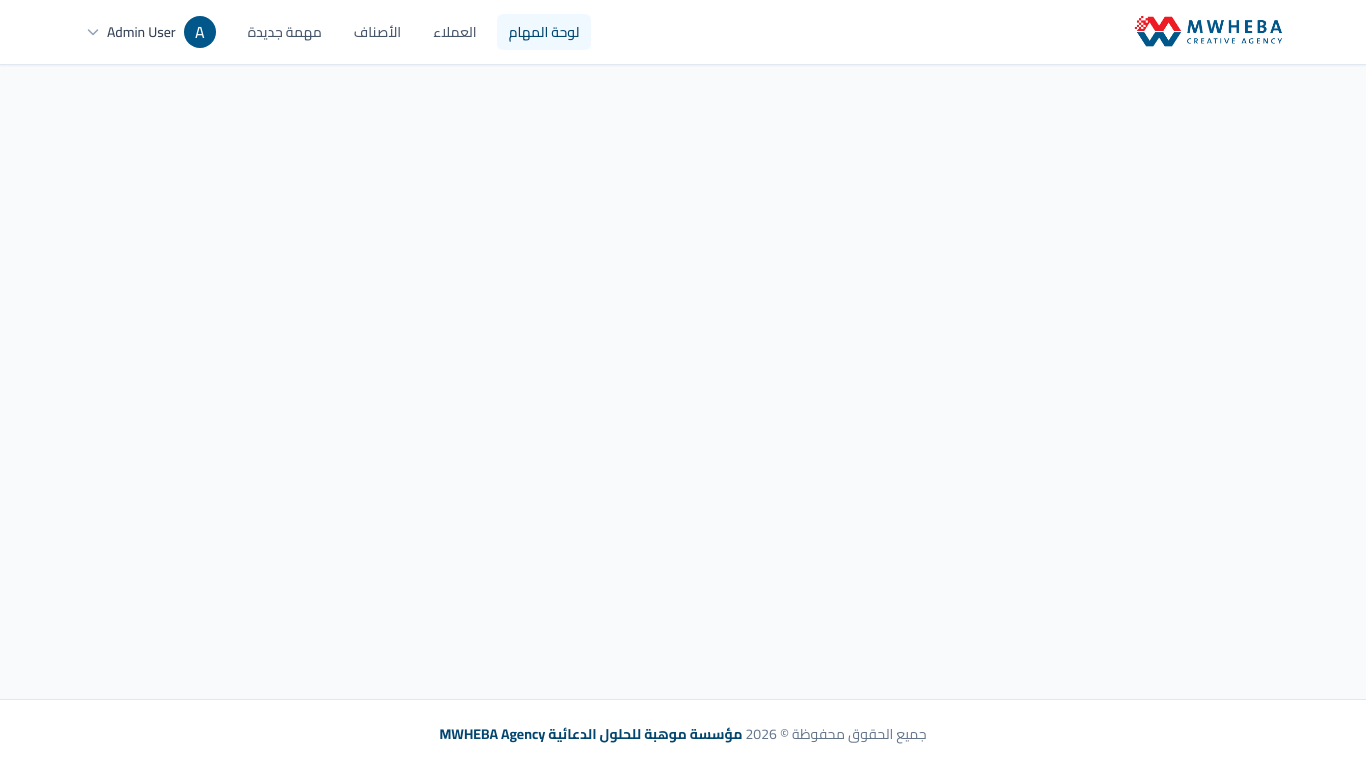
Layout Component › shows admin menu items only for admin users
Click the button "A Admin User". click: (151, 32)
box: [75, 8, 228, 56]
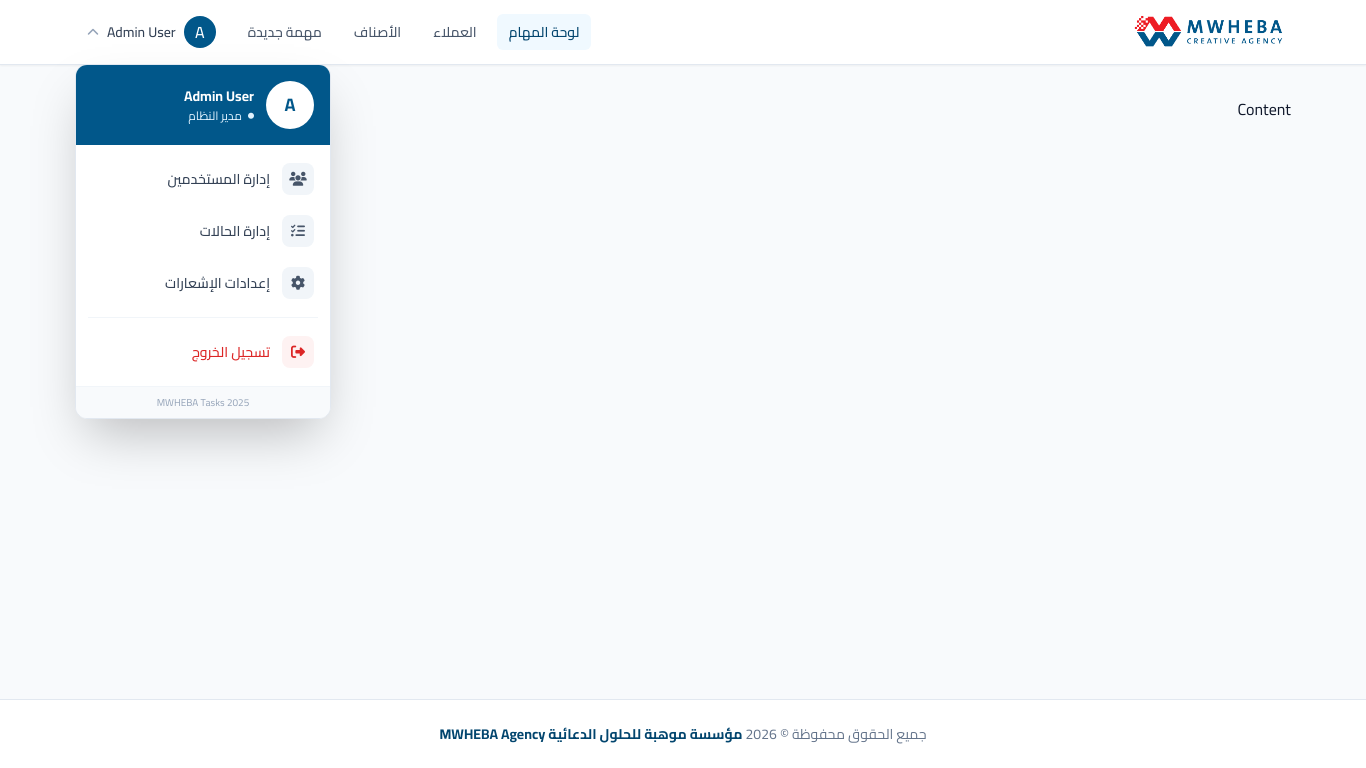
Check: the text "إدارة المستخدمين" is shown, box [167, 169, 270, 189]
Check: the text "إدارة الحالات" is shown, box [200, 221, 270, 241]
